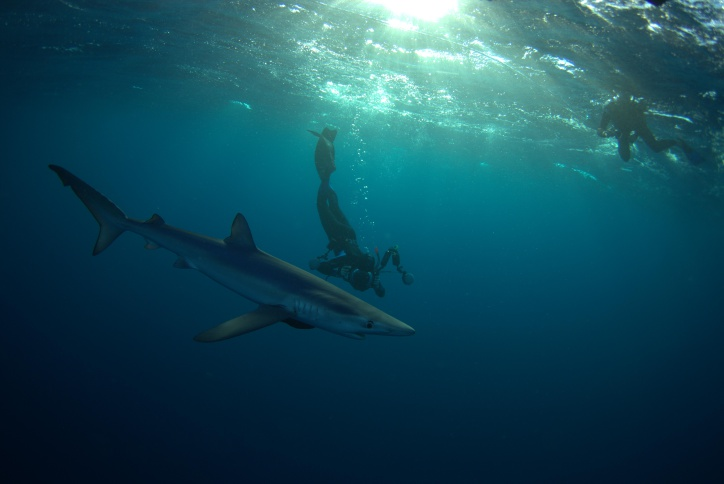Azul: (22, 148, 427, 355)
